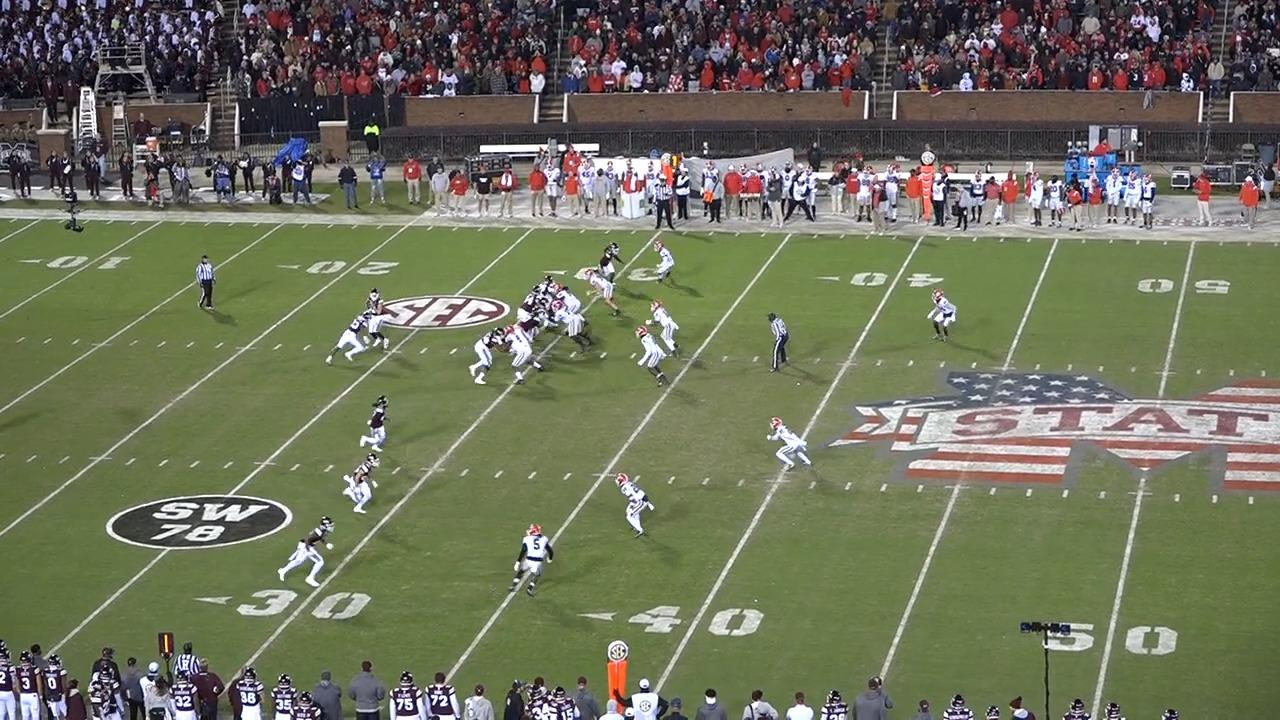player: (273, 516, 336, 590), (509, 525, 555, 601), (618, 472, 662, 540), (771, 417, 818, 477), (551, 298, 596, 353), (346, 454, 384, 516), (501, 326, 540, 385), (359, 395, 394, 460), (466, 327, 503, 387), (322, 312, 364, 363), (634, 327, 665, 389), (363, 287, 392, 353), (652, 302, 683, 360), (584, 267, 621, 314), (927, 288, 957, 342), (556, 283, 588, 329), (656, 239, 679, 288), (600, 242, 624, 287), (516, 286, 540, 327), (517, 309, 545, 336), (527, 298, 550, 320), (535, 275, 556, 299)
ref: (766, 313, 791, 377), (191, 254, 217, 310), (653, 178, 677, 233), (171, 641, 200, 684)
